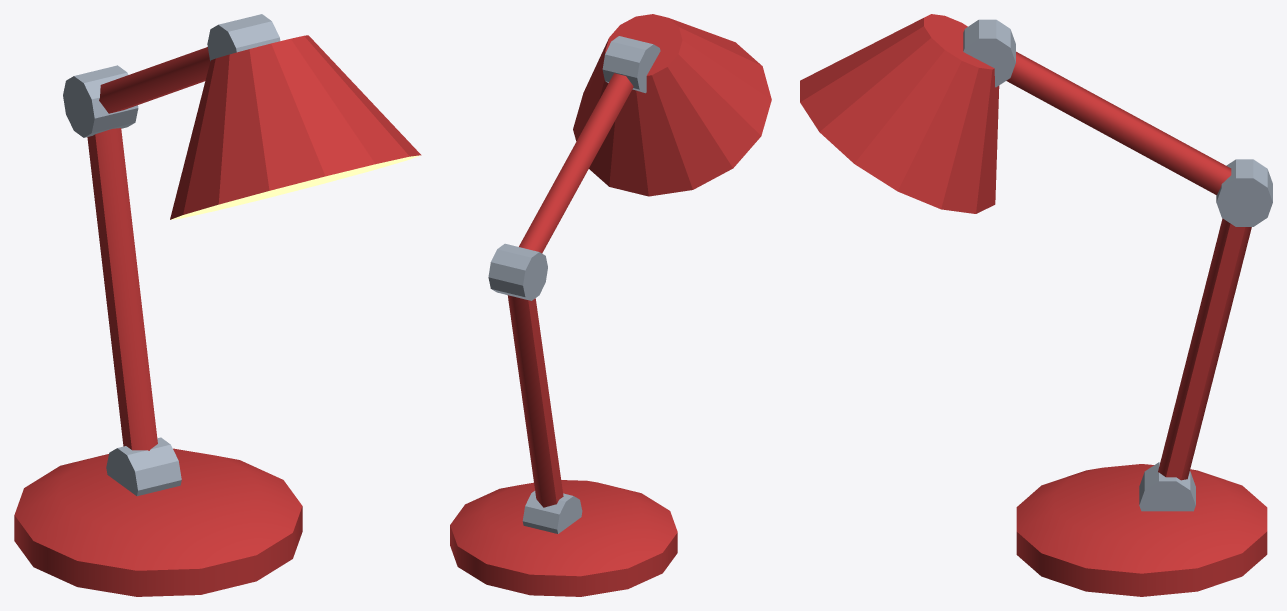
File: desk-lamp.glb
3 views of the same model, side by side, from view 1: azimuth 30°, elevation 25°; view 2: azimuth 150°, elevation 25°; view 3: azimuth 270°, elevation 25° (orthographic). The views are drawn at different scales.
Visible parts, largest first — view 1: Lamp foot, Lamp shade, Lamp arms, Lamp joints; view 2: Lamp shade, Lamp foot, Lamp arms, Lamp joints; view 3: Lamp shade, Lamp foot, Lamp arms, Lamp joints.
Boxes of the visible parts, <box> form: Lamp foot: <box>14,448,302,596</box>; Lamp shade: <box>170,35,421,219</box>; Lamp arms: <box>87,47,209,450</box>; Lamp joints: <box>63,14,280,496</box>; Lamp shade: <box>573,14,771,196</box>; Lamp foot: <box>450,480,677,596</box>; Lamp arms: <box>507,73,633,507</box>; Lamp joints: <box>488,36,660,533</box>; Lamp shade: <box>800,14,999,213</box>; Lamp foot: <box>1016,464,1267,596</box>; Lamp arms: <box>1006,51,1251,480</box>; Lamp joints: <box>963,19,1272,511</box>.
Bounding box in the file's own units: 0.2 × 0.4471 × 0.368.
